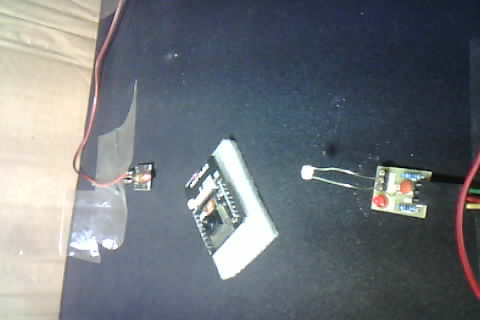esp32: (180, 138, 275, 278)
